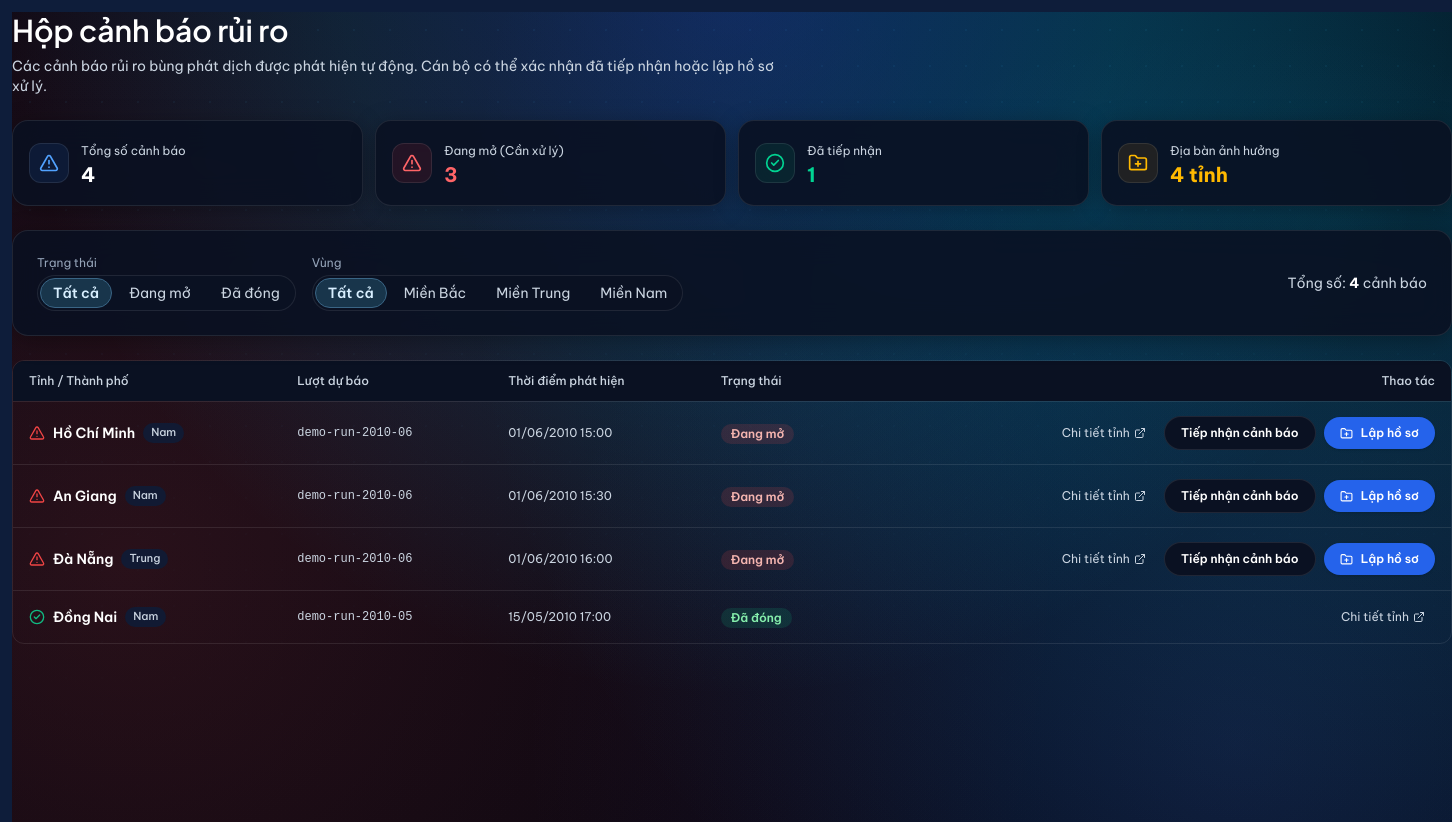
it: AlertsPage (S6 Cảnh báo rủi ro) › lọc cảnh báo theo khu vực
Expected: the link "Hồ Chí Minh" is shown, [53,423,135,443]
Chọn Miền Trung
Click the radio button labelled "Miền Trung". click: (533, 293)
box: [496,284,570,302]
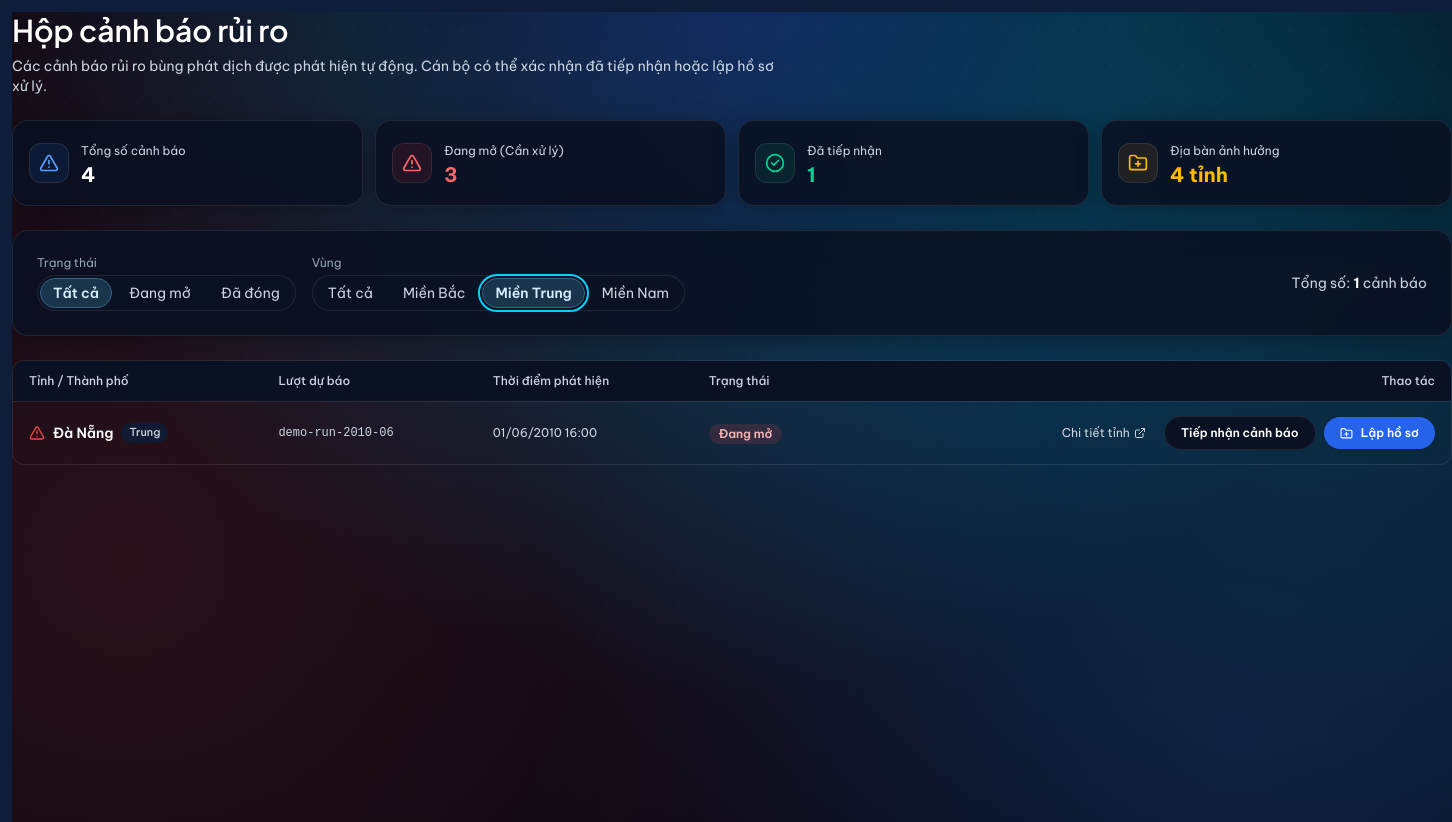
Expected: the link "Đà Nẵng" is shown, [53,423,114,443]
Expected: the link "Hồ Chí Minh" is gone
Expected: the link "An Giang" is gone
